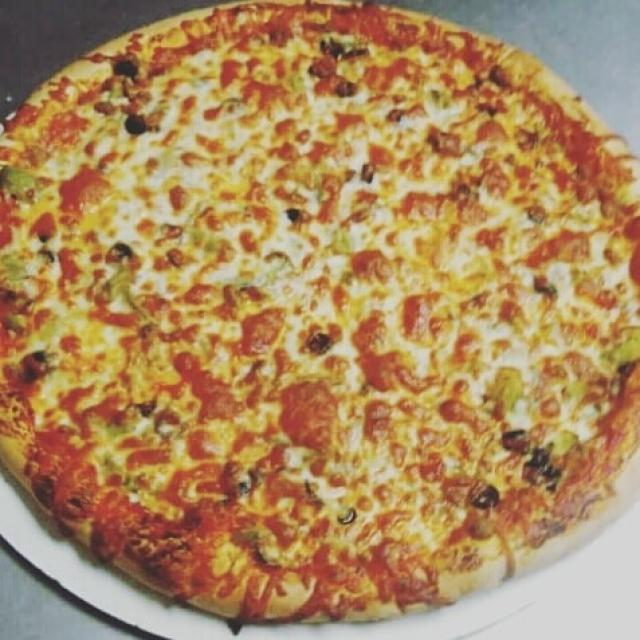black_olives: (518, 437, 562, 492), (115, 106, 155, 140), (494, 423, 530, 457), (465, 478, 500, 512), (107, 56, 149, 84), (16, 350, 54, 380), (100, 236, 131, 272), (230, 464, 258, 502), (281, 201, 313, 226)
pizza: (0, 0, 640, 624)
